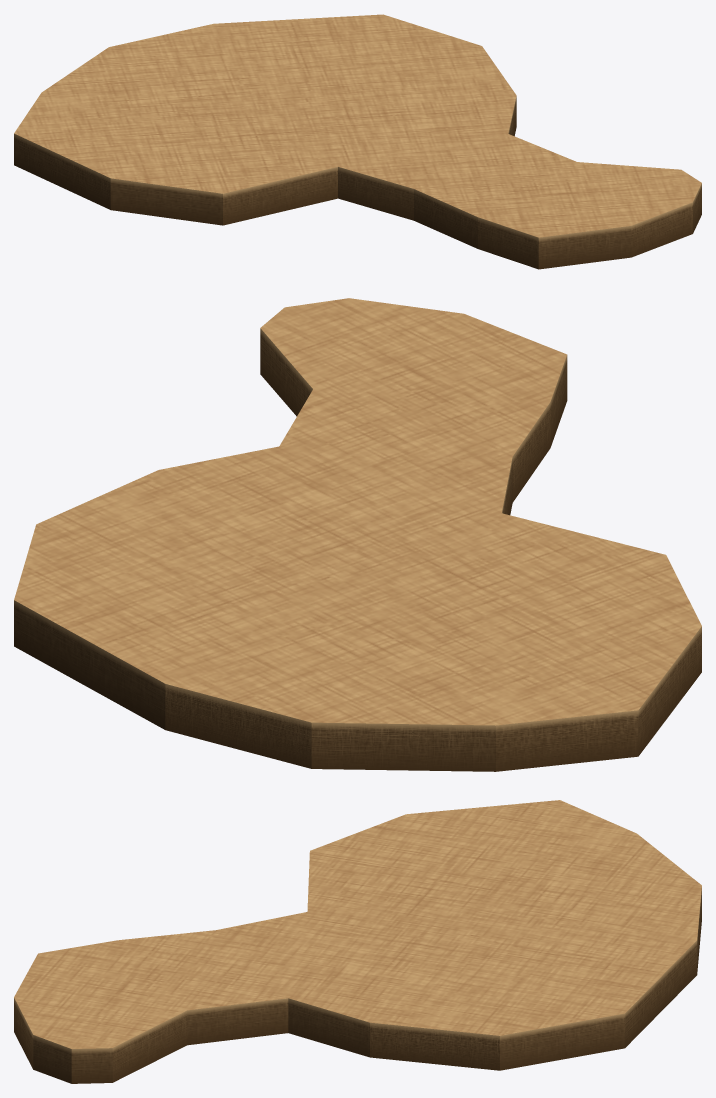
File: Terrain04_A.FBX
The picture shows the model from 3 angles, top to bottom: view 1: azimuth 30°, elevation 25°; view 2: azimuth 150°, elevation 25°; view 3: azimuth 270°, elevation 25°; orthographic projection. The views are drawn at different scales.
Visible parts, largest first — view 1: Terrain04_A; view 2: Terrain04_A; view 3: Terrain04_A.
Part boxes in pixels (box(x1,y1,x2,y2)): Terrain04_A: box(14, 14, 701, 269); Terrain04_A: box(14, 298, 701, 771); Terrain04_A: box(14, 800, 701, 1083).
Size of the model in its own units: 765 by 49.97 by 893.
Materials: 1 (1 with a texture image).
